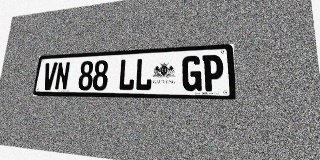8: (77, 60, 94, 90), (92, 60, 109, 90)
G: (182, 55, 202, 91)
L: (134, 58, 153, 91), (118, 58, 136, 91)
N: (54, 62, 70, 90)
P: (202, 54, 224, 91)
V: (42, 62, 58, 90)
